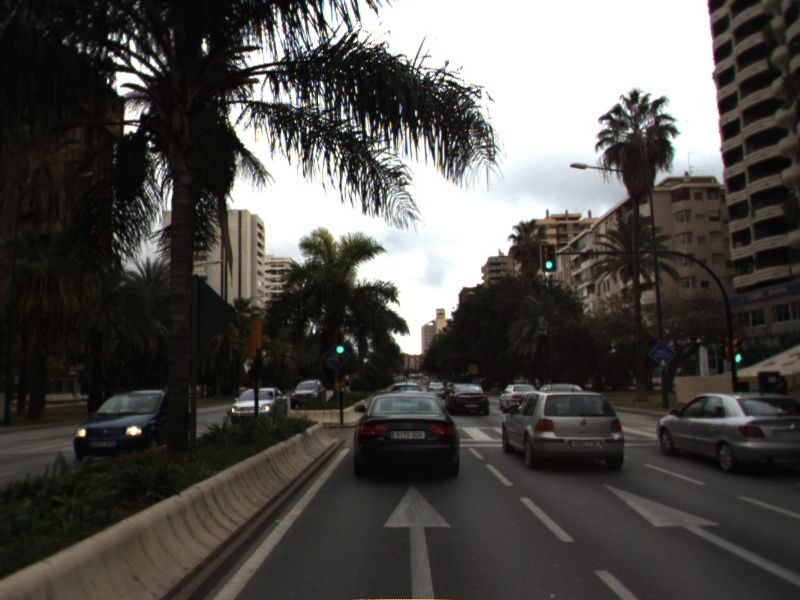STRAIGHT: (598, 478, 800, 585), (379, 480, 457, 600)
